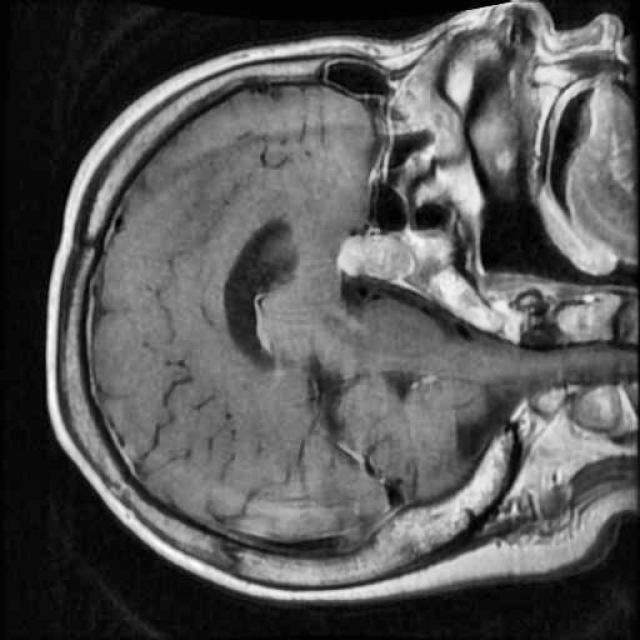Tumor: (328, 218, 431, 300)
